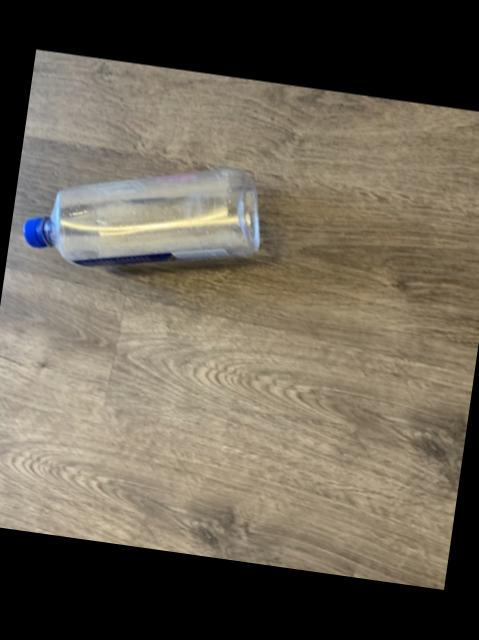plastic: (22, 168, 257, 264)
